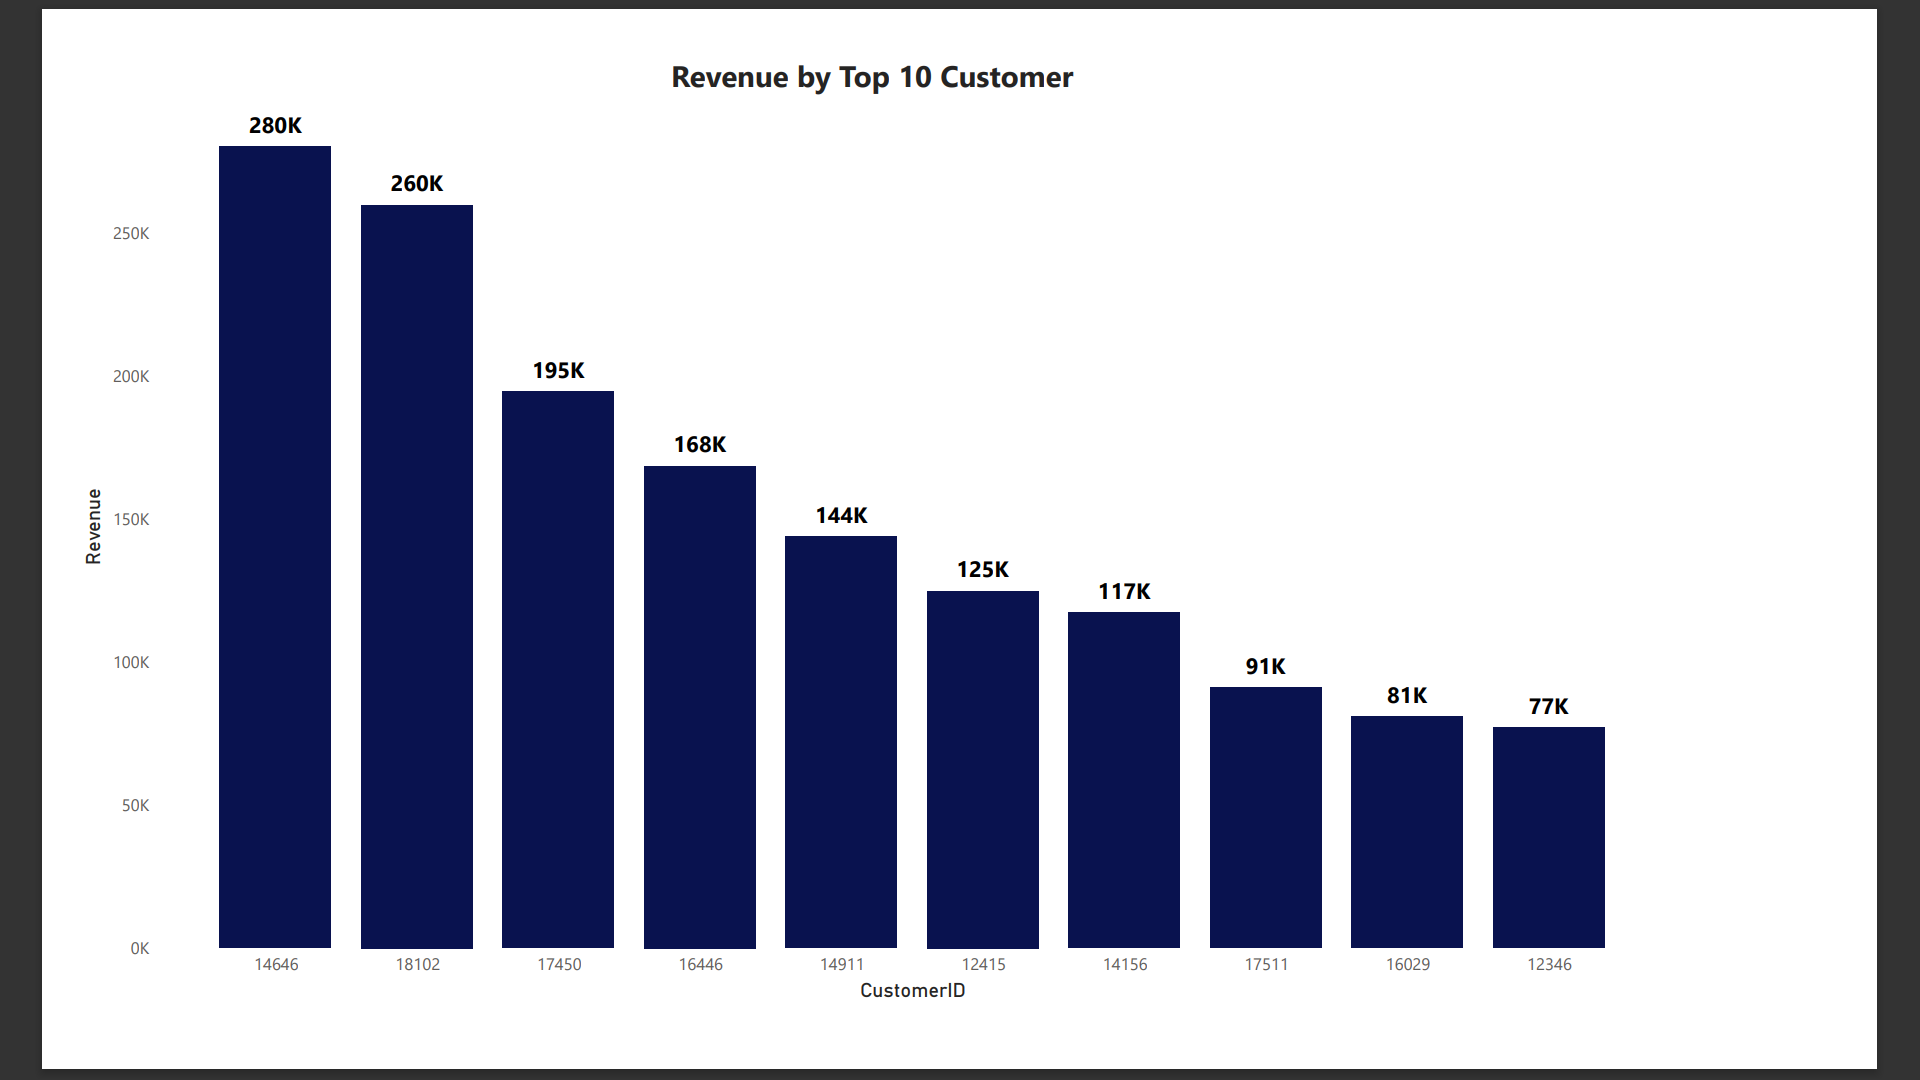

The page's visual inventory and layout, read from the dashboard file:
{"tool":"powerbi","page":{"name":"Question3","canvas":[1280,720],"ordinal":2},"visuals":[{"type":"columnChart","title":"Revenue by Top 10 Customer ","fields":{"Category":["Online Retail.CustomerID"],"Y":["Sum(Online Retail.Total Revenue)"]},"box":[0,10,1153.8,690],"z":0}]}

Visuals, with their boxes in screenshot pixels (x1, y1, x2, y2), scaled from the page's 1280x720 canvas onto the 1920x1080 screenshot:
"Revenue by Top 10 Customer " columnChart: bbox=(0, 15, 1731, 1050)
